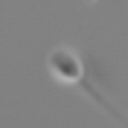normal: (79, 78, 128, 128)
